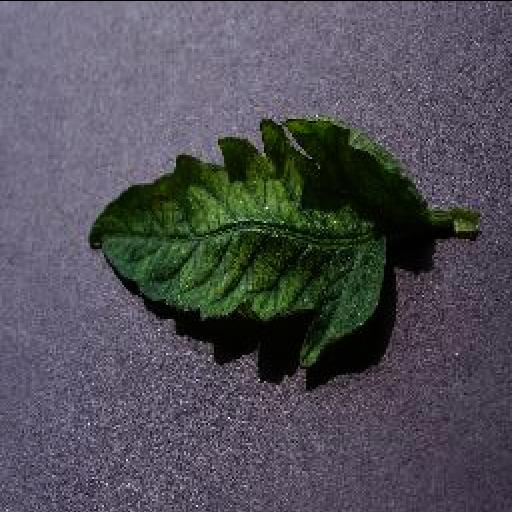disease_tomato: (82, 117, 426, 371)
